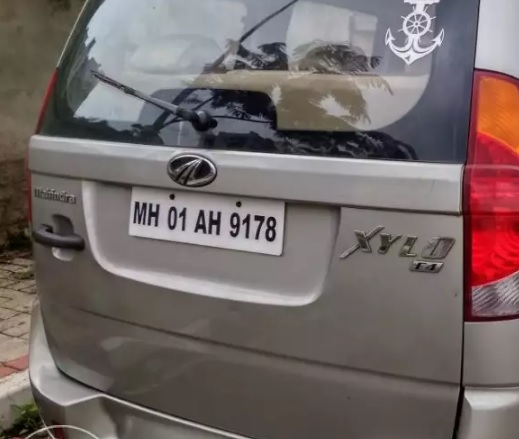licenseplate: (126, 182, 288, 259)
